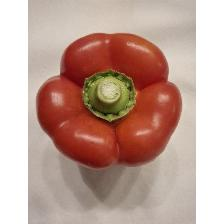Paprika: (34, 32, 184, 172)
